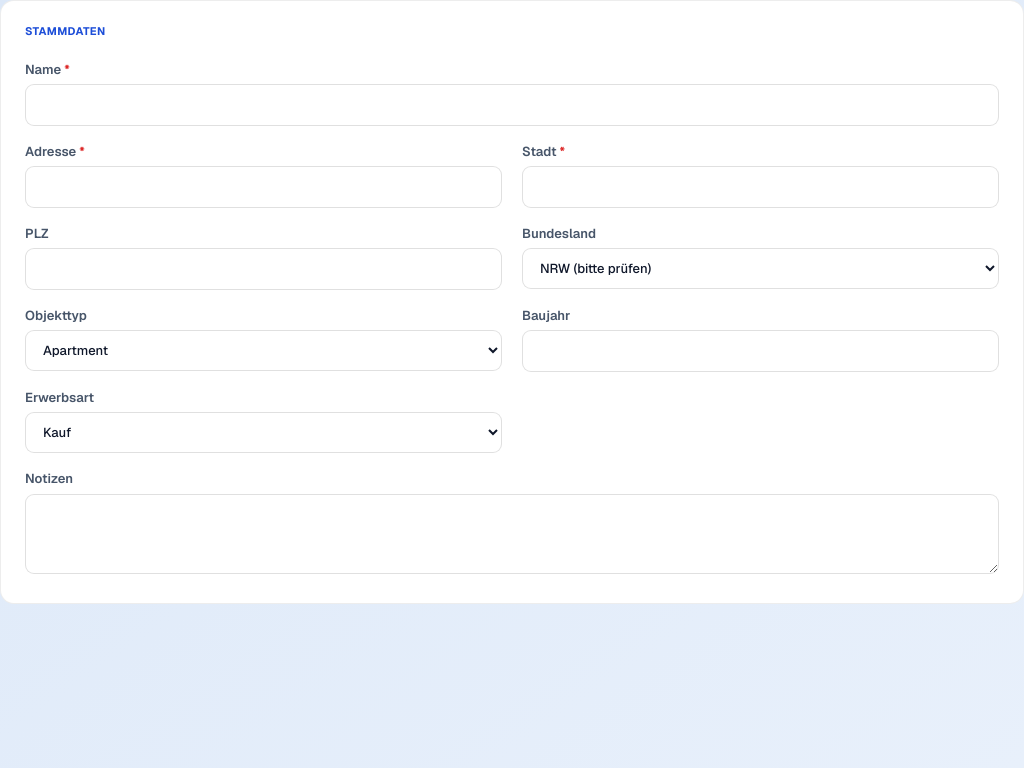
Scenario: StepStammdaten Bundesland from PLZ › replaces a legacy value by the PLZ-derived Bundesland
Type "01099" into the field labelled "PLZ".
click(264, 269); type("01099")  # box [25,248,502,290]
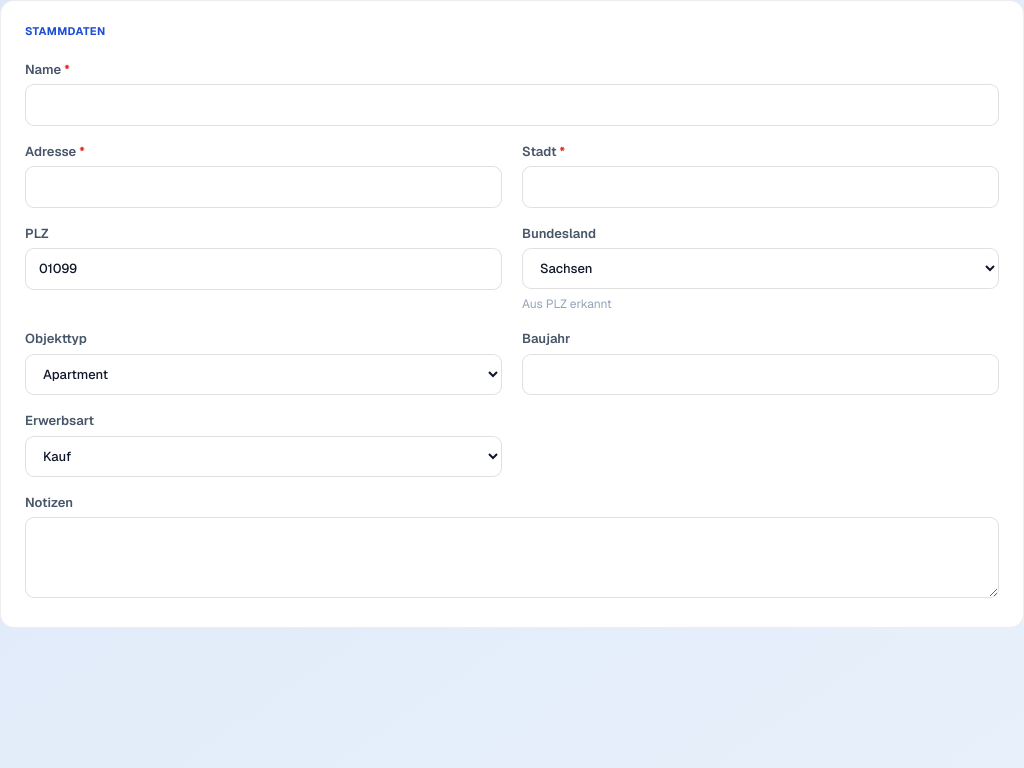
Check: the option "NRW (bitte prüfen)" is not shown
Check: the dropdown labelled "Bundesland" shows "Sachsen", box [522,248,999,289]
